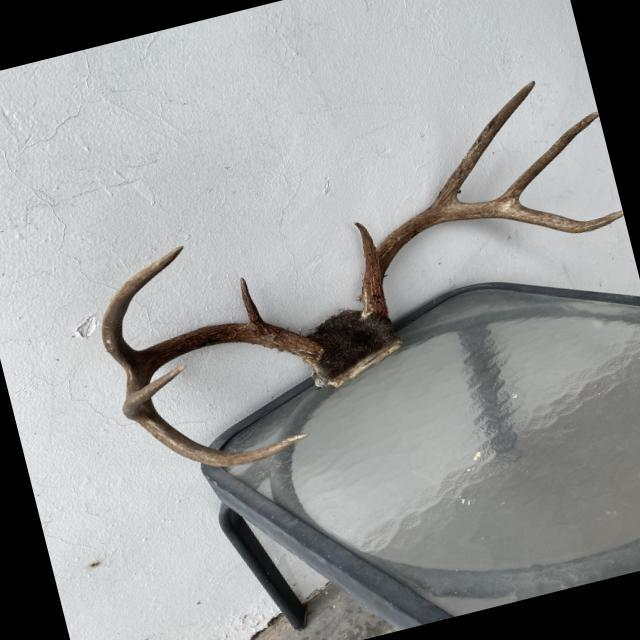L-F: (362, 200, 623, 317)
L-G1: (355, 220, 379, 277)
L-G2: (426, 79, 535, 209)
L-G3: (497, 111, 598, 203)
R-G1: (240, 277, 266, 326)
R-G2: (101, 245, 184, 375)
